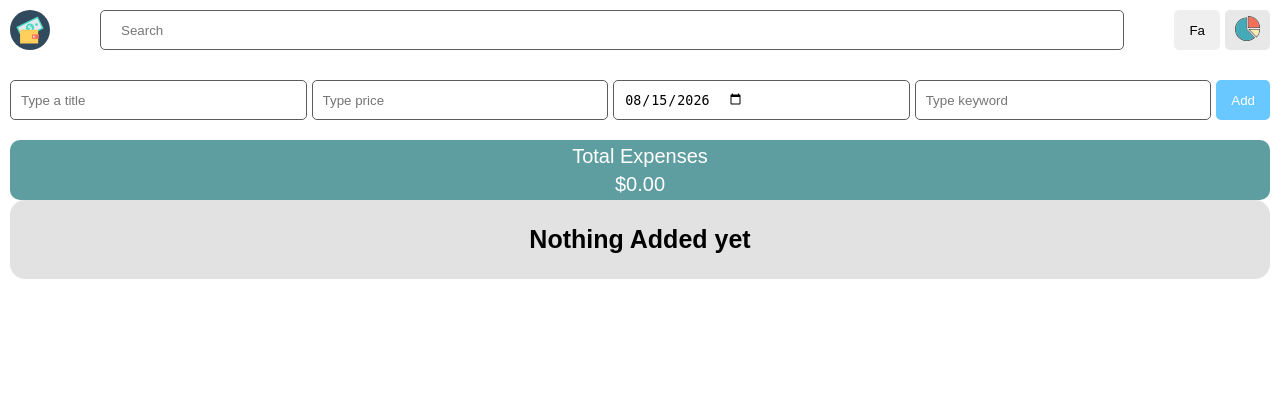
Test: Testing HomePage component › adds an expense to the list
In the field with test id "input-text": (158, 100) [10,80,307,120], type "Coffee"
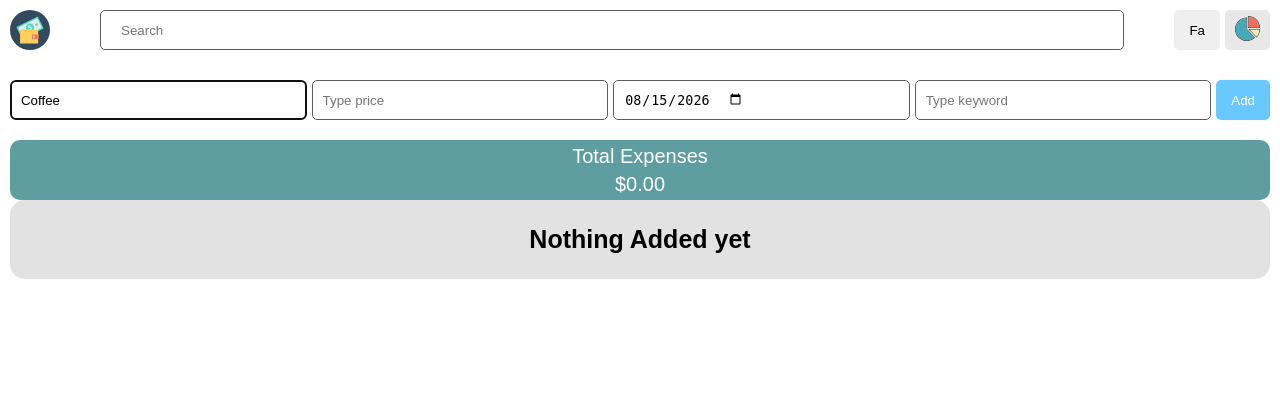
In the field with test id "input-price": (460, 100) [312,80,608,120], type "12.45"
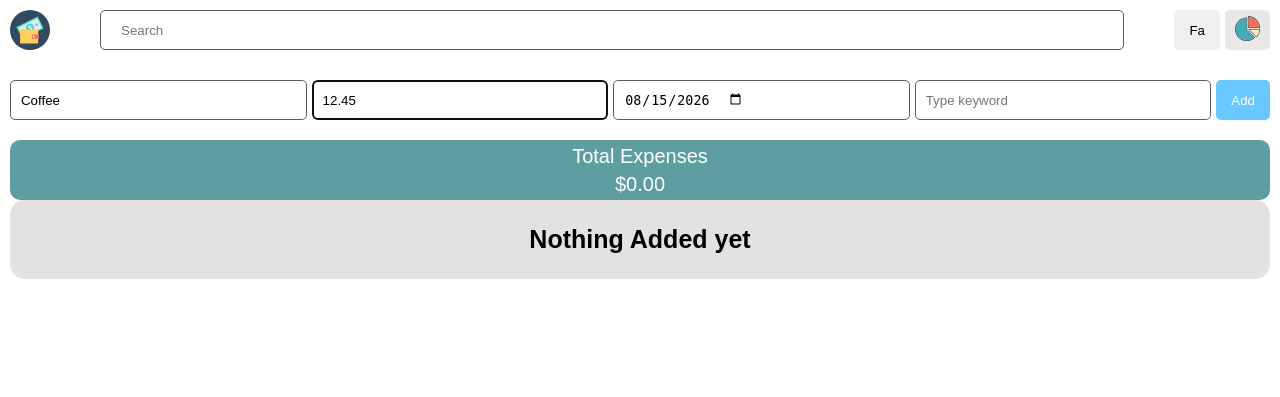
In the date field with test id "input-date": (761, 100) [613,80,910,120], type "2026-12-09"
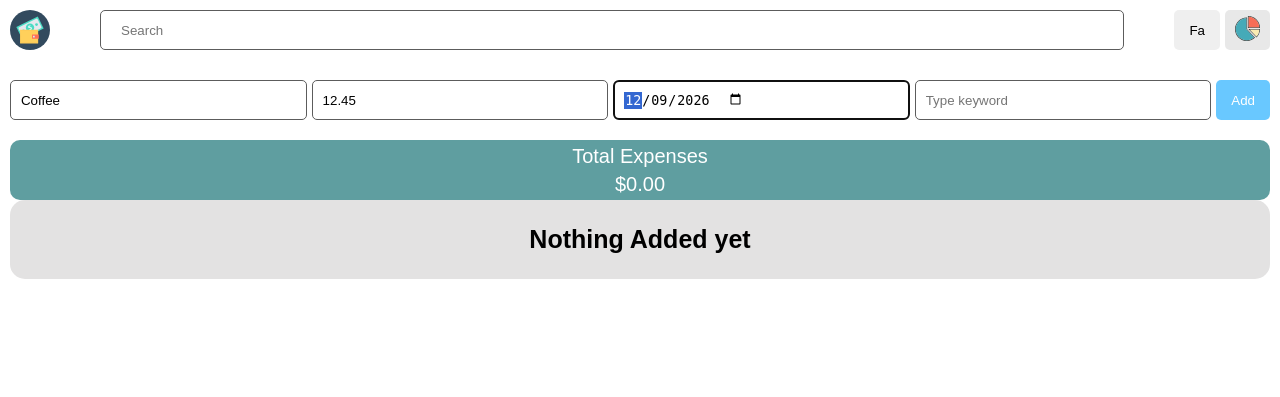
In the field with test id "input-keyword": (1063, 100) [915,80,1211,120], type "drink"
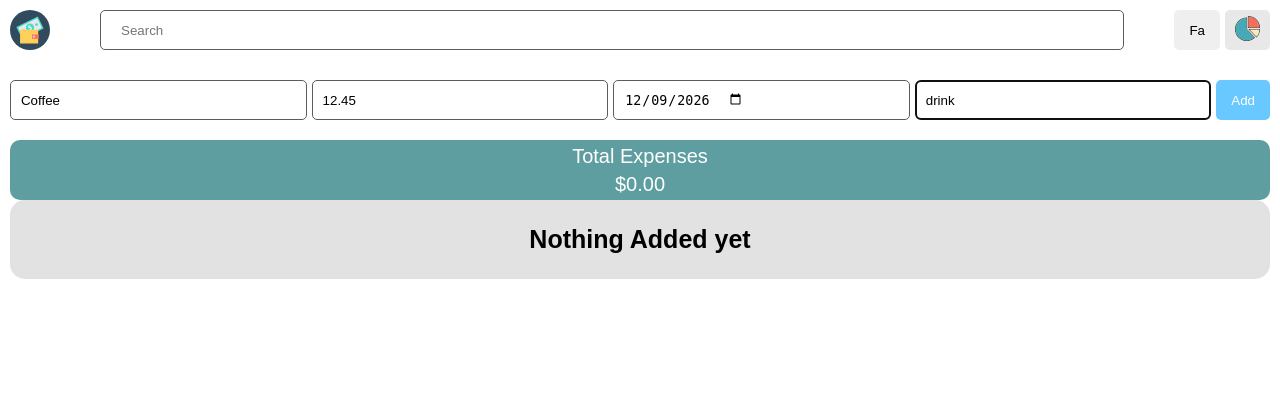
Click the button with test id "btn-add": click(1243, 100) [1216,80,1270,120]
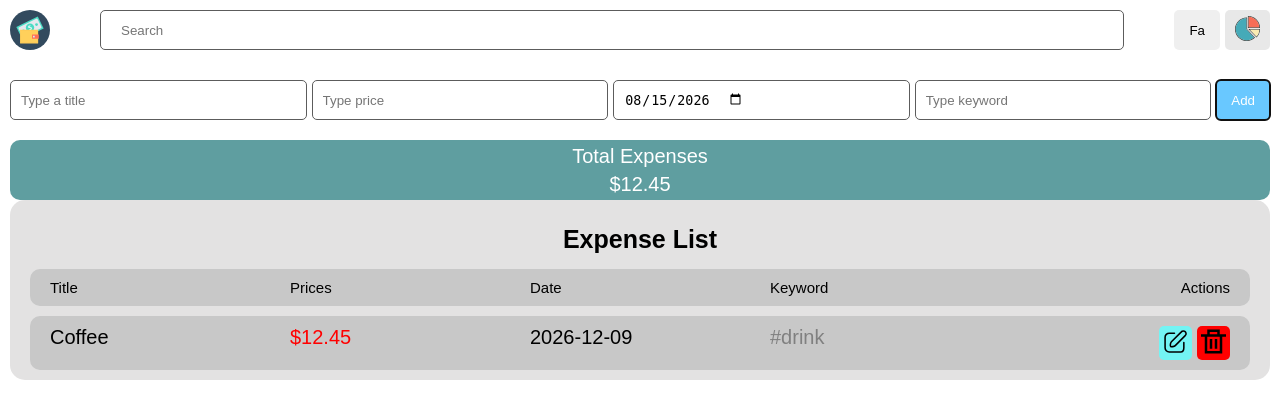
Expected: the text with test id "expense-title" reads "Coffee", [50,326,109,348]
Expected: the text with test id "expense-amount" reads "$12.45", [290,326,351,348]
Expected: the text with test id "expense-date" reads "2026-12-09", [530,326,632,348]
